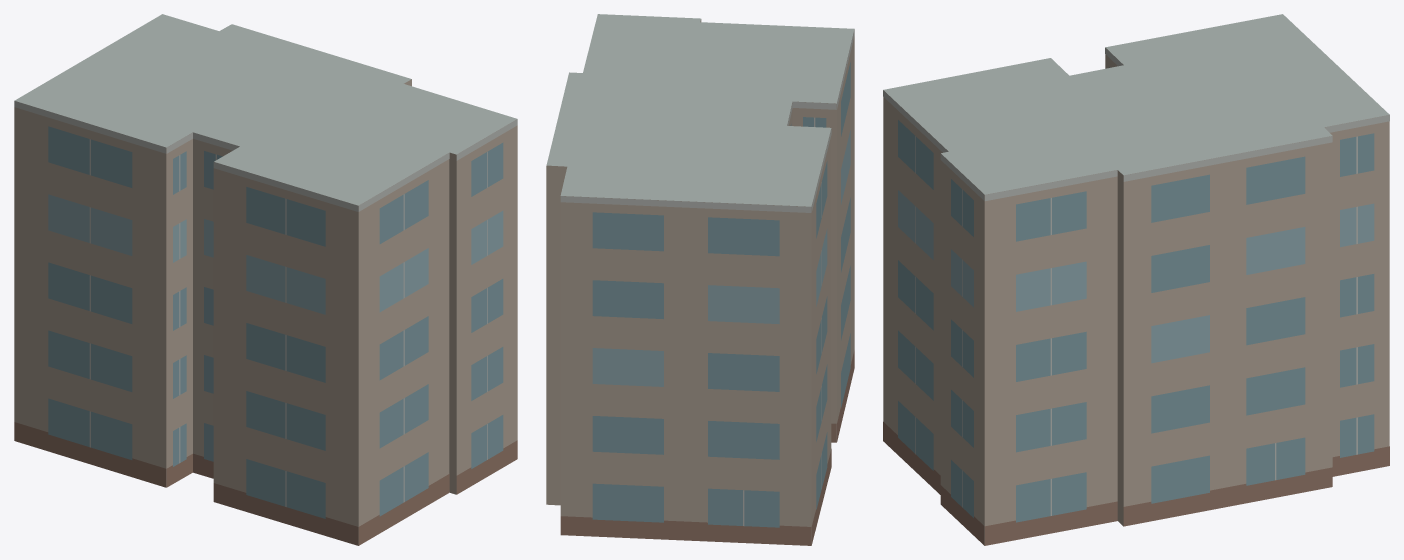
File: survey-upis-32659096.glb
3 views of the same model, side by side, from view 1: azimuth 30°, elevation 25°; view 2: azimuth 150°, elevation 25°; view 3: azimuth 270°, elevation 25° (orthographic). The views are drawn at different scales.
Parts seen in each view (by area): view 1: survey-upis-32659096.tmp; view 2: survey-upis-32659096.tmp; view 3: survey-upis-32659096.tmp.
Boxes of the visible parts, bbox=[...] form: survey-upis-32659096.tmp: bbox=[14, 14, 517, 545]; survey-upis-32659096.tmp: bbox=[546, 14, 854, 545]; survey-upis-32659096.tmp: bbox=[883, 14, 1389, 545].
Bounding box in the file's own units: 14.36 × 13 × 17.01.
